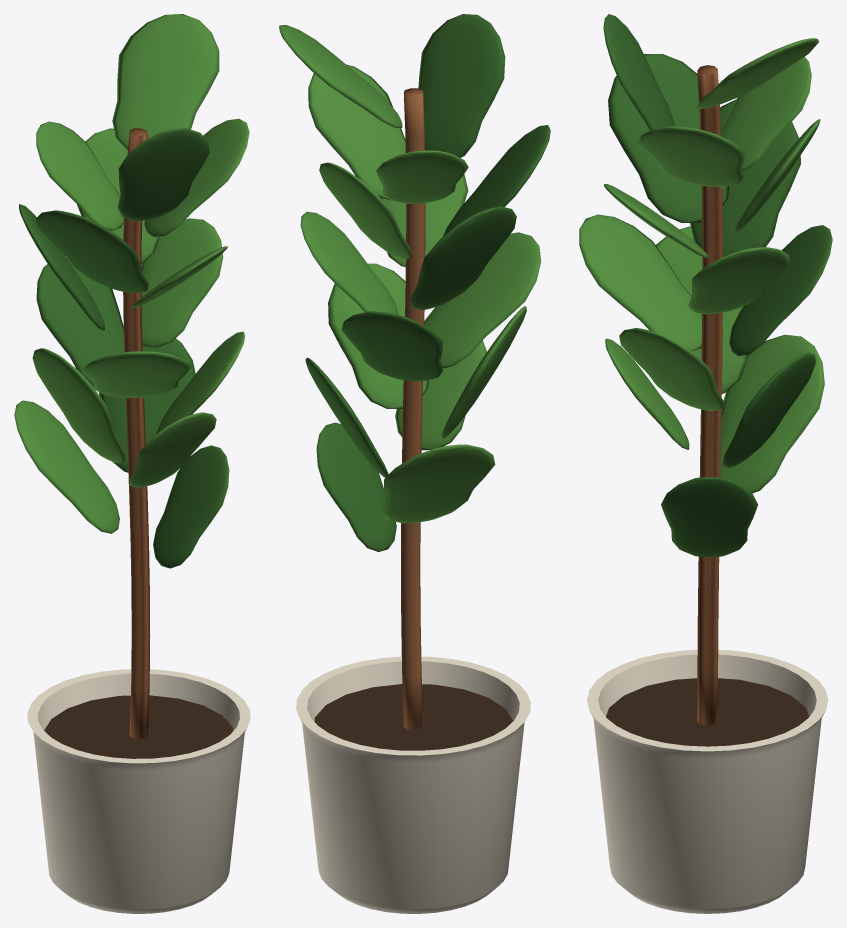
File: fiddle_fig.glb
3 renders of one model, left to right at view 1: azimuth 30°, elevation 25°; view 2: azimuth 150°, elevation 25°; view 3: azimuth 270°, elevation 25°, orthographic. The views are drawn at different scales.
Visible parts, largest first — view 1: model; view 2: model; view 3: model.
Boxes of the visible parts, x1,y1,x2,y2 form: model: (14,14,250,913); model: (279,14,550,913); model: (579,14,832,913).
Size of the model in its own units: 0.448 by 1.69 by 0.441.
5 materials, 5 textured.
